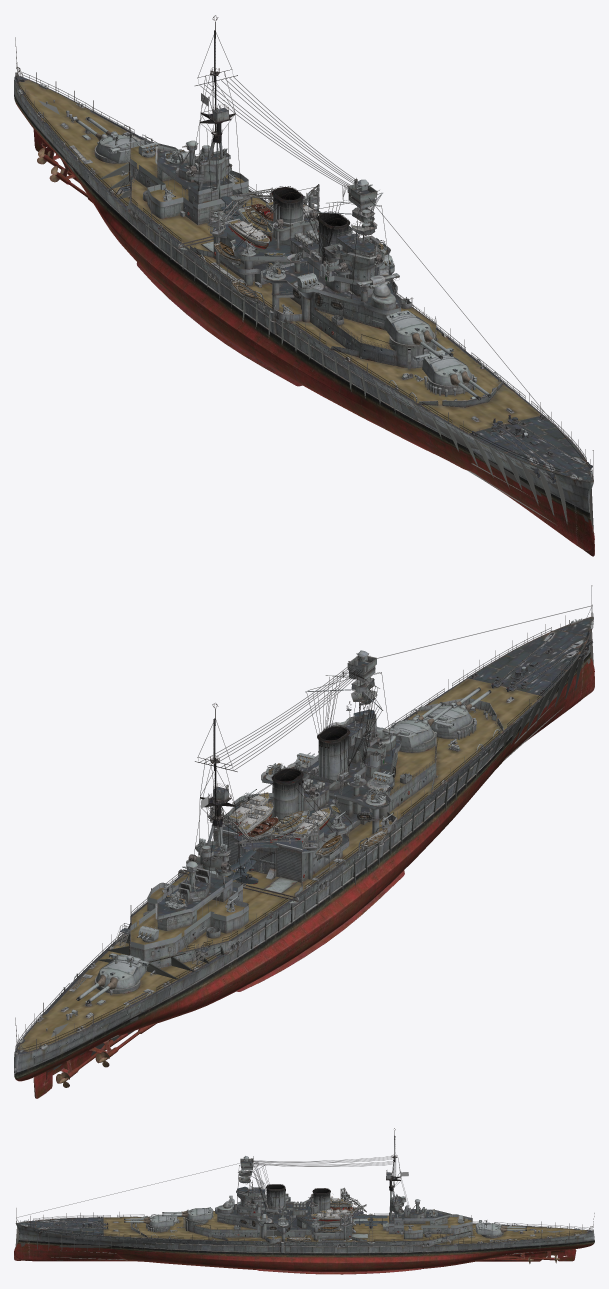
The model's file is hms_repulse_war_thunder-maximum-compressed.glb.
3 views of the same model, one above another, from view 1: azimuth 30°, elevation 25°; view 2: azimuth 150°, elevation 25°; view 3: azimuth 270°, elevation 25° (orthographic). The views are drawn at different scales.
Visible parts, largest first — view 1: Object_32, Object_91, Object_55, Object_38, Object_48, Object_40, Object_20, Object_51, Object_30, Object_15, Object_68, Object_49 (+13 smaller); view 2: Object_91, Object_32, Object_55, Object_38, Object_40, Object_51, Object_20, Object_50, Object_15, Object_30, Object_52, Object_68 (+12 smaller); view 3: Object_32, Object_55, Object_91, Object_38, Object_40, Object_20, Object_48, Object_51, Object_30, Object_68, Object_50, Object_52 (+13 smaller).
Part boxes in pixels (box(x1,y1,x2,y2)): Object_32: box(15, 101, 594, 556); Object_91: box(18, 80, 540, 433); Object_55: box(14, 79, 593, 518); Object_38: box(14, 76, 593, 483); Object_48: box(237, 246, 436, 365); Object_40: box(120, 107, 540, 477); Object_20: box(83, 32, 591, 469); Object_51: box(130, 135, 248, 224); Object_30: box(73, 116, 527, 436); Object_15: box(97, 162, 593, 532); Object_68: box(76, 117, 491, 400); Object_49: box(287, 230, 384, 297); Object_91: box(18, 678, 541, 1051); Object_32: box(14, 657, 594, 1098); Object_55: box(14, 616, 593, 1077); Object_38: box(14, 617, 593, 1054); Object_40: box(120, 650, 587, 952); Object_51: box(130, 841, 248, 971); Object_20: box(74, 605, 591, 989); Object_50: box(211, 774, 352, 882); Object_15: box(53, 630, 593, 1069); Object_30: box(72, 650, 525, 1014); Object_52: box(206, 735, 348, 942); Object_68: box(76, 687, 491, 1003); Object_32: box(14, 1242, 594, 1274); Object_55: box(15, 1213, 594, 1256); Object_91: box(103, 1211, 587, 1244); Object_38: box(16, 1215, 592, 1246); Object_40: box(57, 1161, 446, 1238); Object_20: box(17, 1136, 500, 1244); Object_48: box(193, 1196, 311, 1241); Object_51: box(383, 1196, 472, 1239); Object_30: box(83, 1156, 536, 1242); Object_68: box(124, 1207, 526, 1230); Object_50: box(286, 1200, 363, 1240); Object_52: box(266, 1189, 372, 1228).
Bounding box in the file's own units: 34.09 × 61.61 × 242.
Materials: 48 (48 with a texture image).
